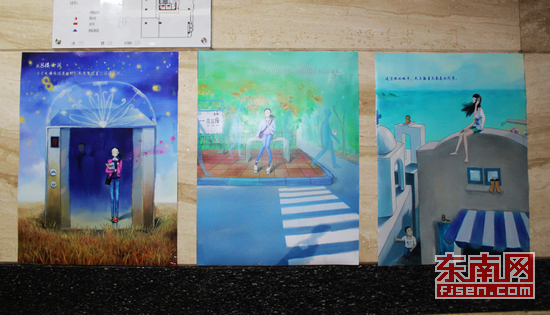bill: (197, 49, 360, 265), (374, 51, 533, 267), (20, 52, 177, 267)
